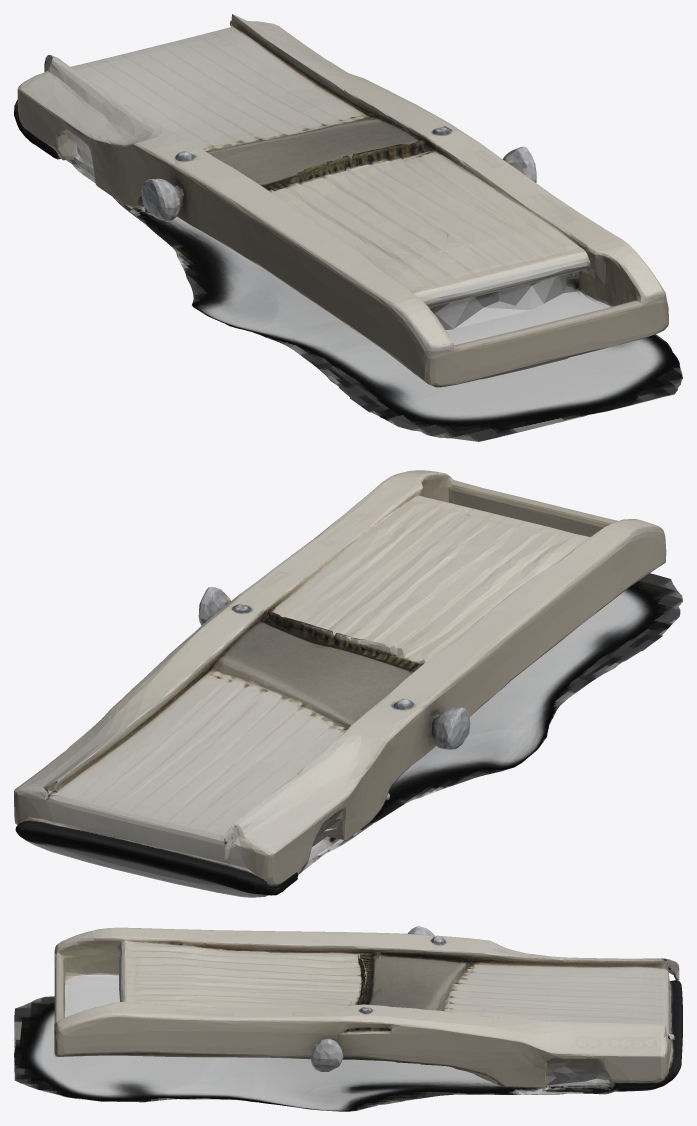
Rendered from mandolinegrater.glb.
The picture shows the model from 3 angles, top to bottom: view 1: azimuth 30°, elevation 25°; view 2: azimuth 150°, elevation 25°; view 3: azimuth 270°, elevation 25°; orthographic projection. The views are drawn at different scales.
Visible parts, largest first — view 1: world; view 2: world; view 3: world.
Part boxes in pixels (x1,y1,x2,y2): world: (14,14,682,441); world: (14,470,682,897); world: (14,926,682,1111).
Bounding box in the file's own units: 0.4353 × 0.1397 × 1.
Materials: 1 (1 with a texture image).
